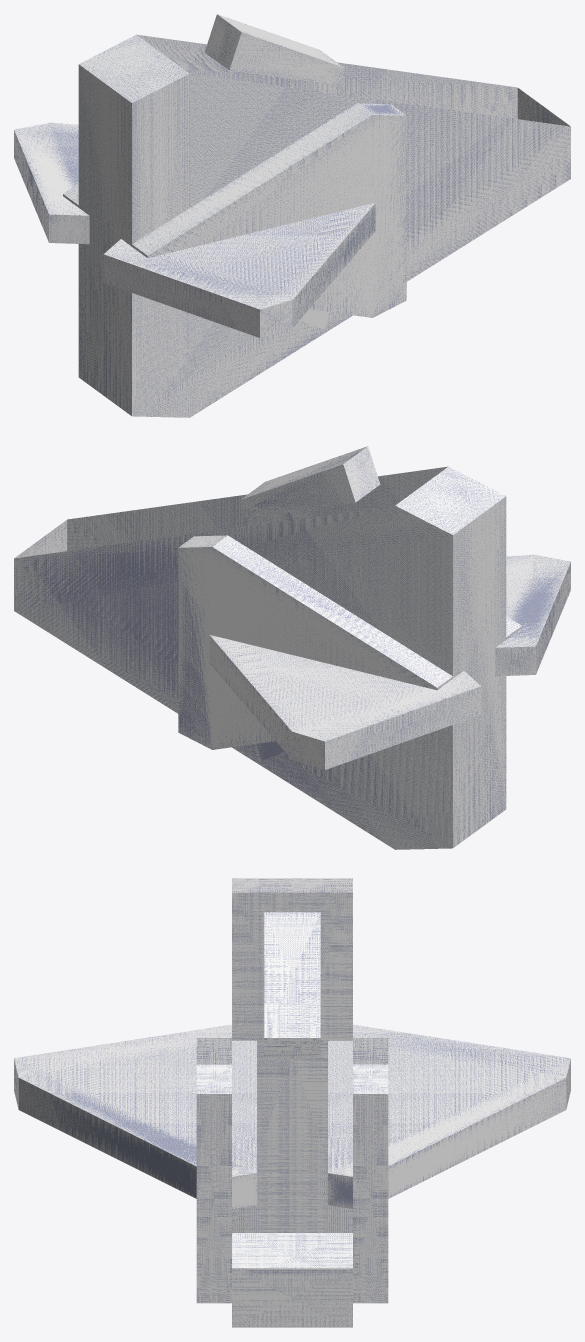
Rendered from SocialSciences_mergedCoreTest.dae.
3 renders of one model, top to bottom at view 1: azimuth 30°, elevation 25°; view 2: azimuth 150°, elevation 25°; view 3: azimuth 270°, elevation 25°, orthographic. The views are drawn at different scales.
Parts seen in each view (by area): view 1: main (×2), WingExpanded (×2), group_0, group_1; view 2: main (×2), WingExpanded (×2), group_1, group_0; view 3: main (×2), group_0, group_1, WingExpanded (×2).
Part boxes in pixels (x1,y1,x2,y2): main (×2): (78, 14, 570, 417); WingExpanded (×2): (63, 79, 406, 329); group_0: (103, 203, 375, 337); group_1: (14, 122, 89, 244); main (×2): (14, 446, 506, 849); WingExpanded (×2): (178, 510, 521, 761); group_1: (209, 635, 481, 769); group_0: (495, 554, 570, 676); main (×2): (232, 878, 352, 1327); group_0: (14, 1024, 256, 1208); group_1: (328, 1024, 570, 1208); WingExpanded (×2): (196, 1038, 388, 1303).
Size of the model in its own units: 151 by 137 by 111.
